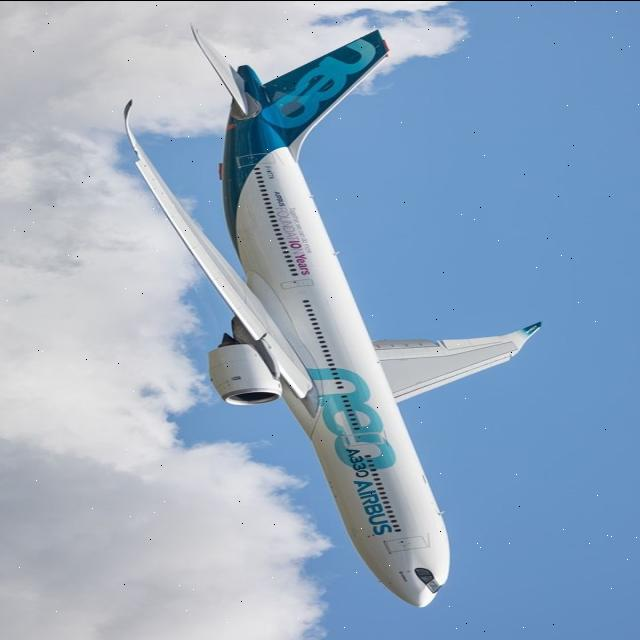aircraft: (31, 0, 582, 615)
